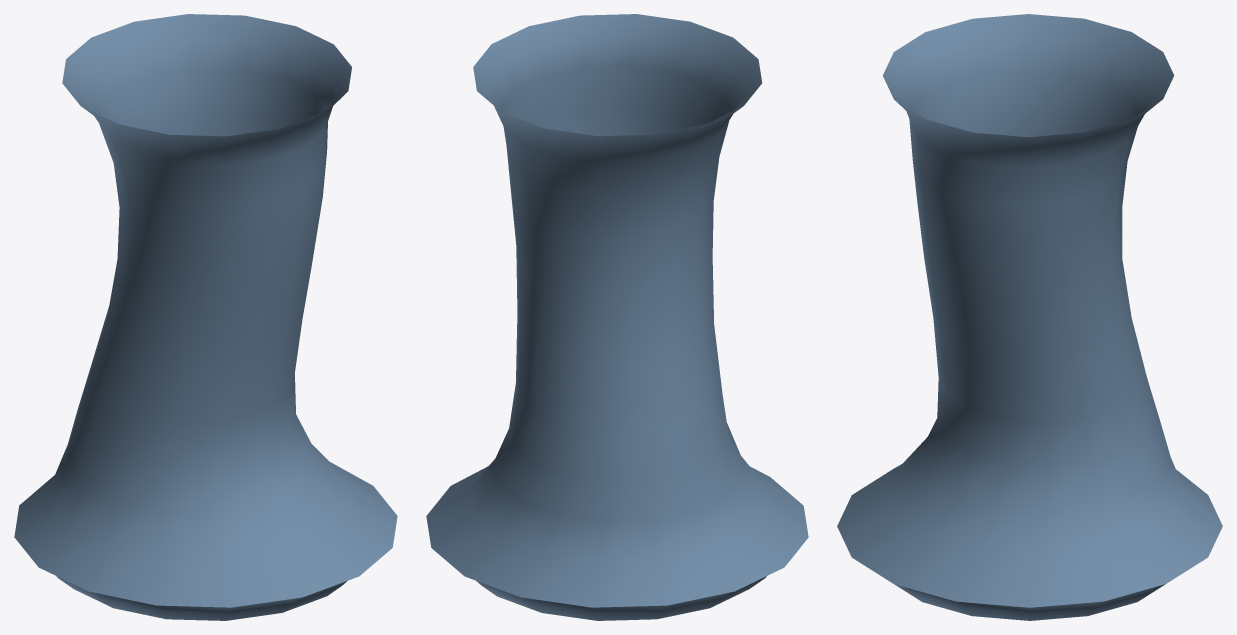
File: Tornado_Round.fbx
The picture shows the model from 3 angles, left to right: view 1: azimuth 30°, elevation 25°; view 2: azimuth 150°, elevation 25°; view 3: azimuth 270°, elevation 25°; orthographic projection.
Parts seen in each view (by area): view 1: Tornado_Mesh_Round, Tornado_Ring_Round; view 2: Tornado_Mesh_Round, Tornado_Ring_Round; view 3: Tornado_Mesh_Round, Tornado_Ring_Round.
Boxes of the visible parts, left/top/right/bottom form: Tornado_Mesh_Round: left=14, top=14, right=397, bottom=607; Tornado_Ring_Round: left=56, top=576, right=347, bottom=620; Tornado_Mesh_Round: left=426, top=14, right=808, bottom=607; Tornado_Ring_Round: left=476, top=576, right=766, bottom=620; Tornado_Mesh_Round: left=837, top=14, right=1222, bottom=607; Tornado_Ring_Round: left=894, top=584, right=1165, bottom=620.
Bounding box in the file's own units: 1.51 × 2.07 × 1.51.
